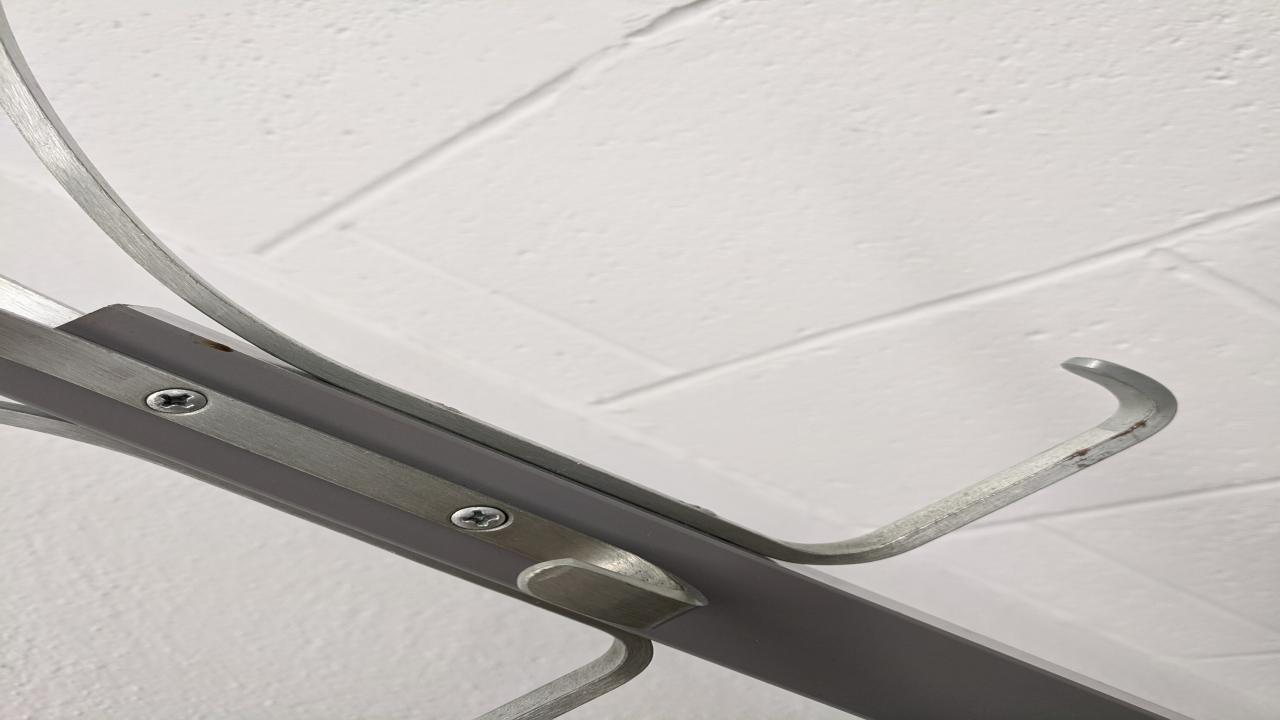CRS: (146, 388, 207, 415), (452, 507, 508, 531)
